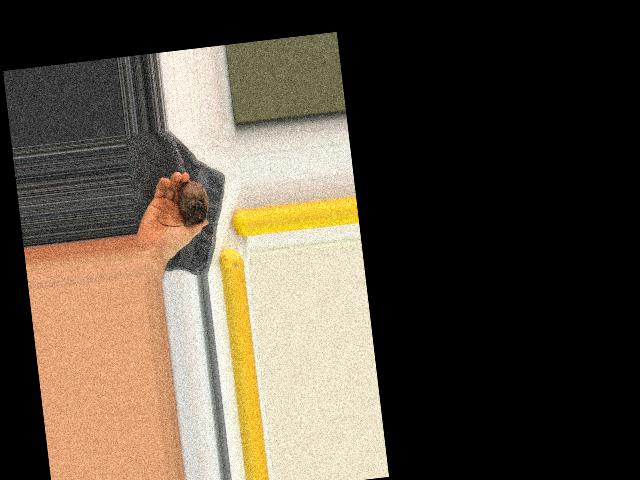beet: (153, 178, 211, 227)
